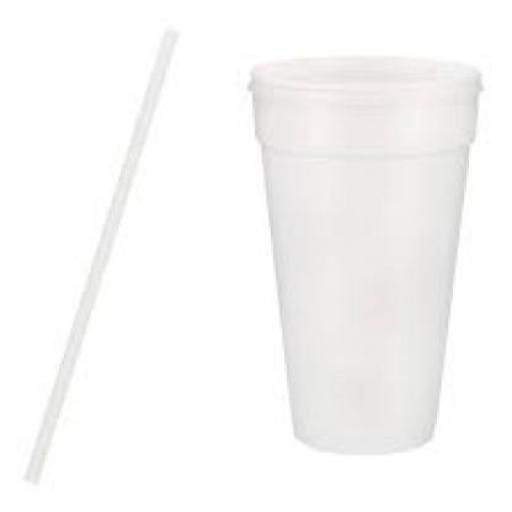paper: (246, 54, 484, 448)
